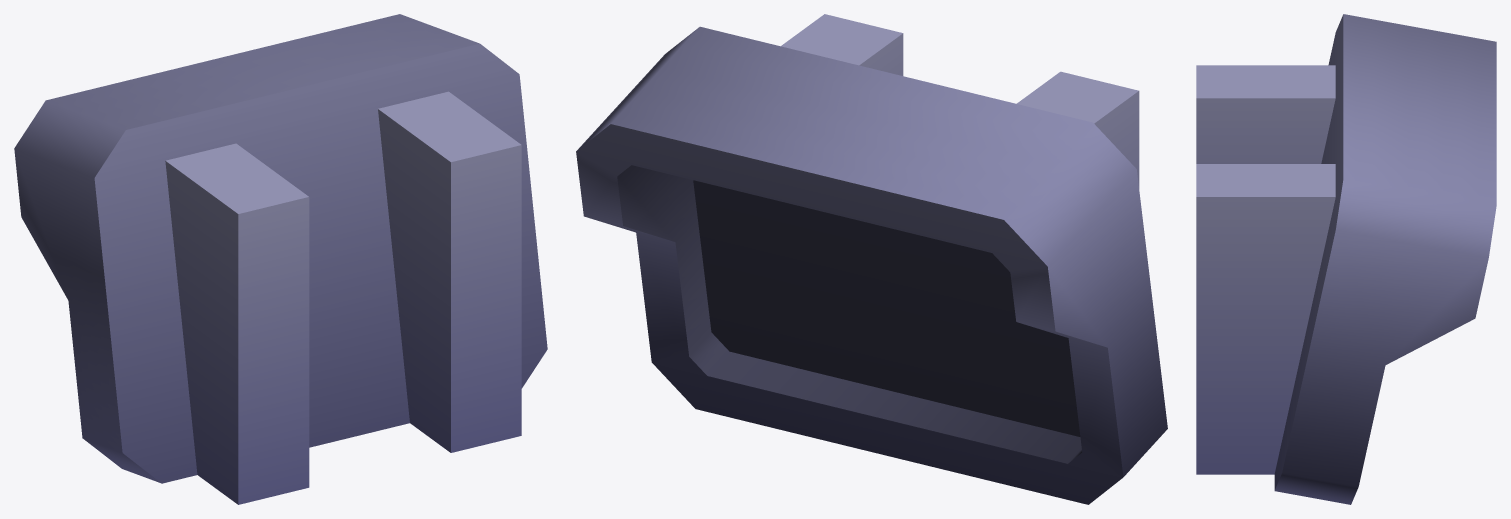
File: kenney-factory-screen-hanging-wide.glb
The picture shows the model from 3 angles, left to right: view 1: azimuth 30°, elevation 25°; view 2: azimuth 150°, elevation 25°; view 3: azimuth 270°, elevation 25°; orthographic projection. The views are drawn at different scales.
Parts seen in each view (by area): view 1: screen-hanging-wide; view 2: screen-hanging-wide; view 3: screen-hanging-wide.
Part boxes in pixels (x1=…): screen-hanging-wide: x1=14, y1=14, x2=547, y2=504; screen-hanging-wide: x1=576, y1=14, x2=1167, y2=504; screen-hanging-wide: x1=1196, y1=14, x2=1496, y2=504.
Bounding box in the file's own units: 1.35 × 1.04 × 0.8648.
1 material, 1 textured.
